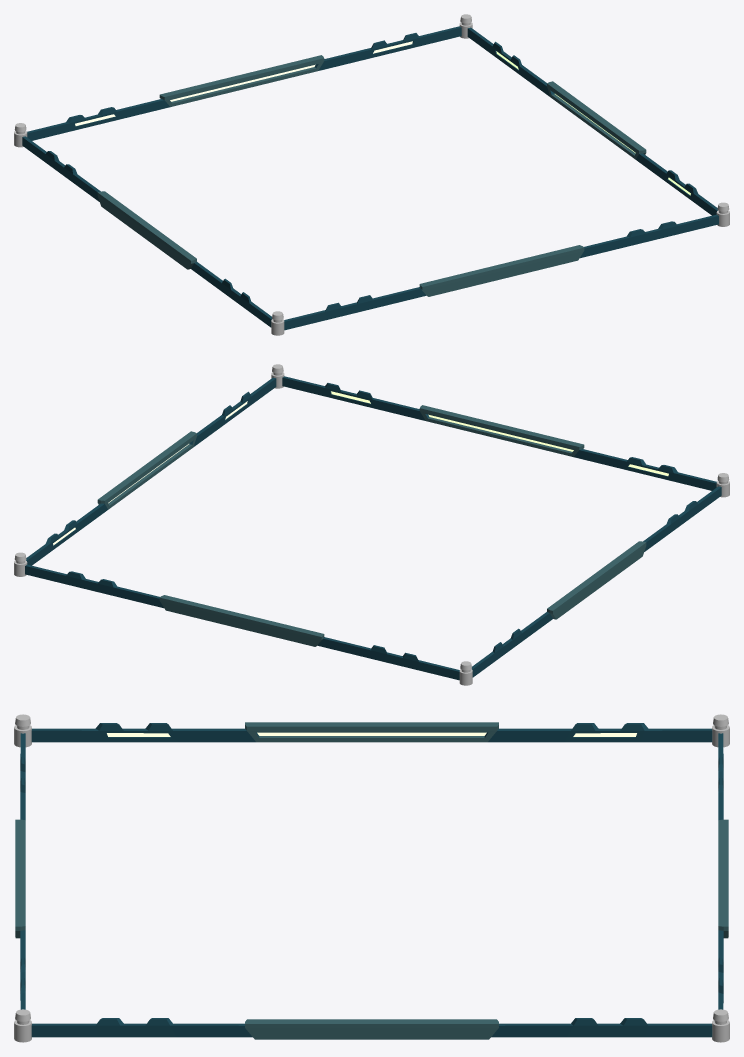
File: Bounds.fbx
3 views of the same model, one above another, from view 1: azimuth 30°, elevation 25°; view 2: azimuth 150°, elevation 25°; view 3: azimuth 270°, elevation 25° (orthographic). The views are drawn at different scales.
Parts seen in each view (by area): view 1: Bounds; view 2: Bounds; view 3: Bounds.
Boxes of the visible parts, x1,y1,x2,y2 form: Bounds: (14, 14, 729, 335); Bounds: (14, 364, 729, 685); Bounds: (14, 714, 729, 1042).
Size of the model in its own units: 1034 by 41.92 by 1034.
